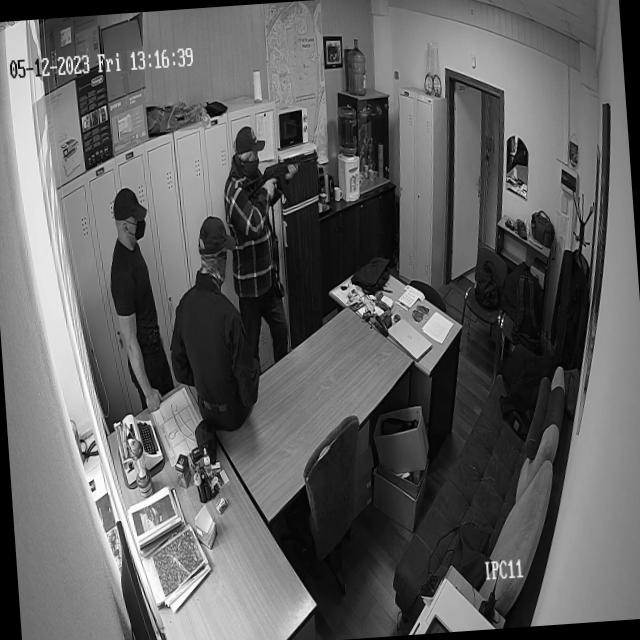gun: (238, 146, 320, 204)
person: (161, 210, 265, 436), (102, 180, 174, 410)
person with a gun: (218, 118, 330, 332)
